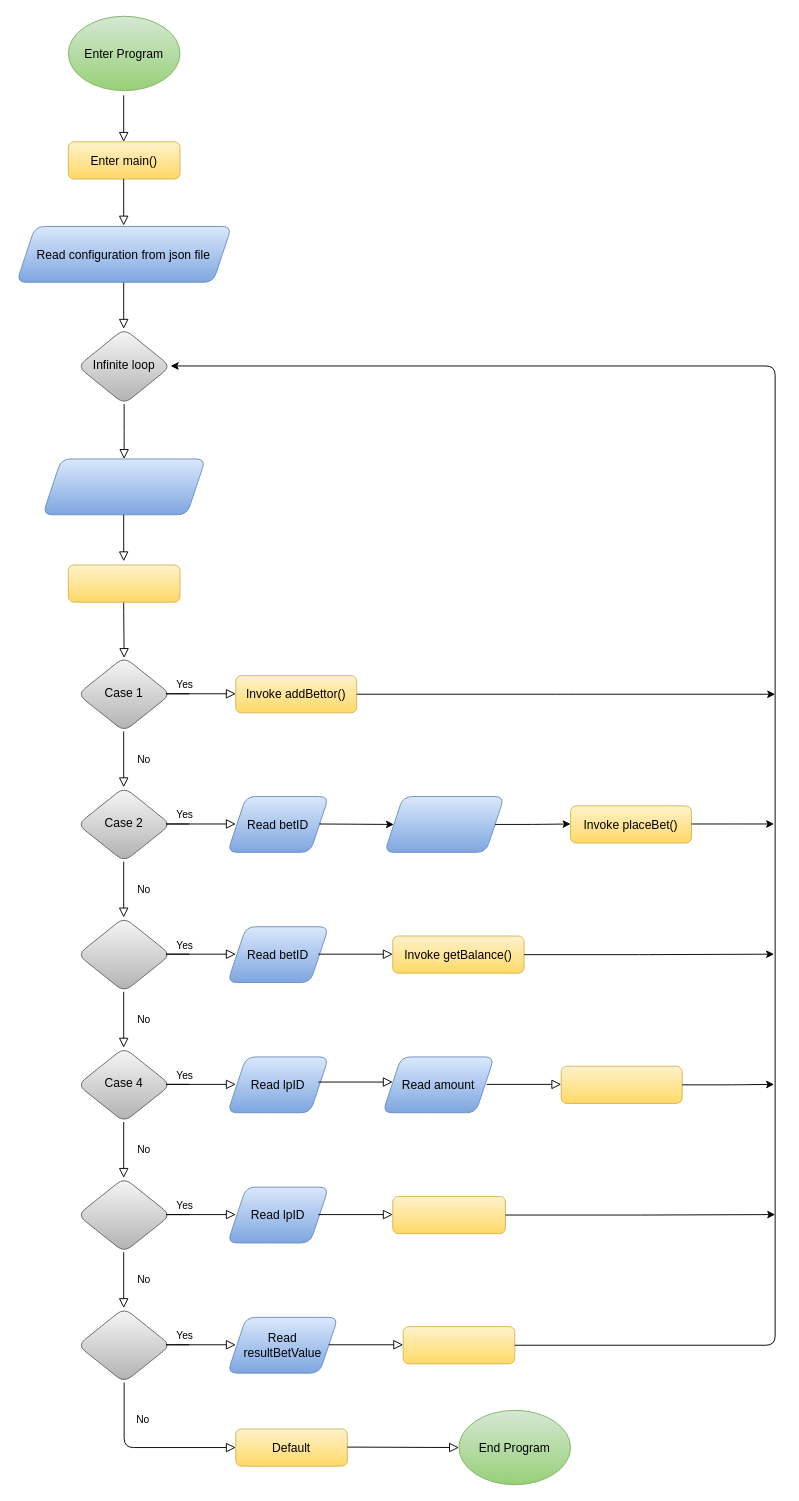
Some shapes in this 799 by 1501 pixel diagram are drawn without their labels. The centre of each missing label's shape, as x and y in pixels:
Ask user for the choice: point (124, 486)
Case 3: point (124, 954)
Case 5: point (124, 1214)
Case 6: point (124, 1344)
Invoke getLpBalance(): point (448, 1215)
Invoke handleResult(): point (458, 1345)
Invoke provideLiquidity(): point (621, 1084)
Read betValue: point (444, 824)
Switch (choice): point (123, 583)
